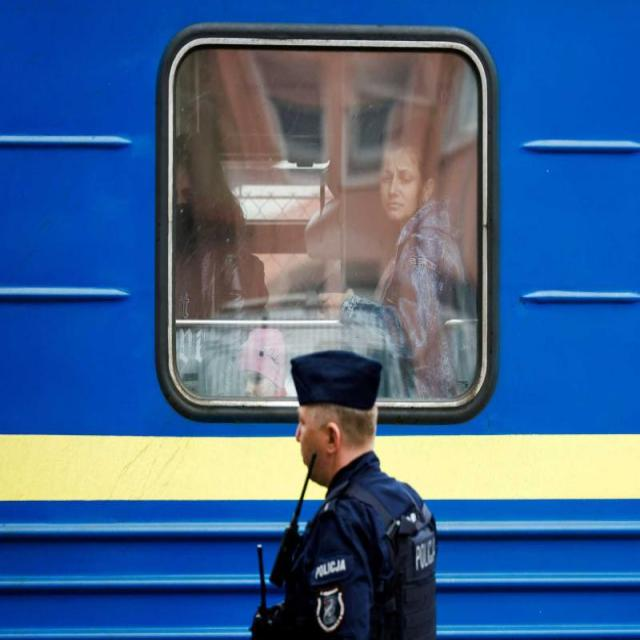police: (208, 316, 473, 640)
